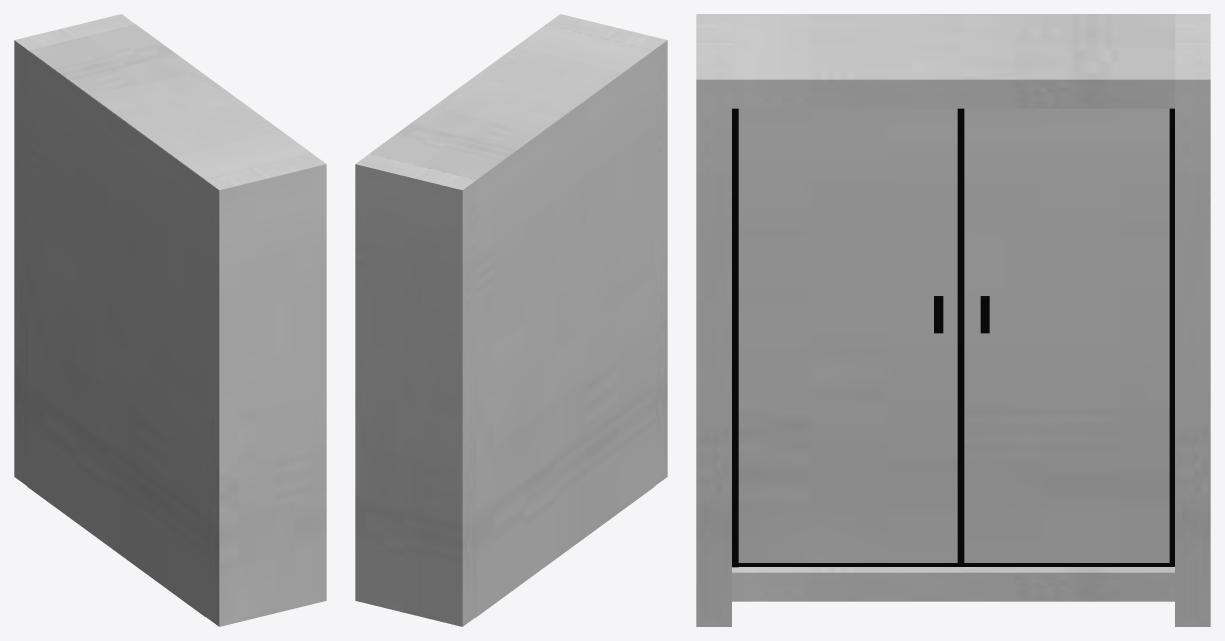
The model's file is lemari_putih.gltf.
The picture shows the model from 3 angles, left to right: view 1: azimuth 30°, elevation 25°; view 2: azimuth 150°, elevation 25°; view 3: azimuth 270°, elevation 25°; orthographic projection. The views are drawn at different scales.
Visible parts, largest first — view 1: Cube.013, Cube.008, Cube.010, Cube.012; view 2: Cube.013, Cube.012, Cube.010, Cube.008; view 3: Cube.011, Cube.010, Cube.008, Cube.012, Cube.006, Cube.016, Cube.017, Cube.018, Cube.019.
Boxes of the visible parts, <box> form: Cube.013: <box>27,51,205,617</box>; Cube.008: <box>205,154,326,626</box>; Cube.010: <box>28,24,312,179</box>; Cube.012: <box>14,14,134,486</box>; Cube.013: <box>475,51,653,617</box>; Cube.012: <box>355,154,476,626</box>; Cube.010: <box>369,24,653,179</box>; Cube.008: <box>546,14,667,486</box>; Cube.011: <box>738,108,1169,562</box>; Cube.010: <box>732,14,1175,108</box>; Cube.008: <box>696,14,731,626</box>; Cube.012: <box>1175,14,1210,626</box>; Cube.006: <box>732,567,1174,601</box>; Cube.016: <box>957,108,964,566</box>; Cube.017: <box>732,108,738,567</box>; Cube.018: <box>1169,108,1174,562</box>; Cube.019: <box>738,563,1174,566</box>.
Bounding box in the file's own units: 1.72 × 6.67 × 5.67.
13 materials, 13 textured.
